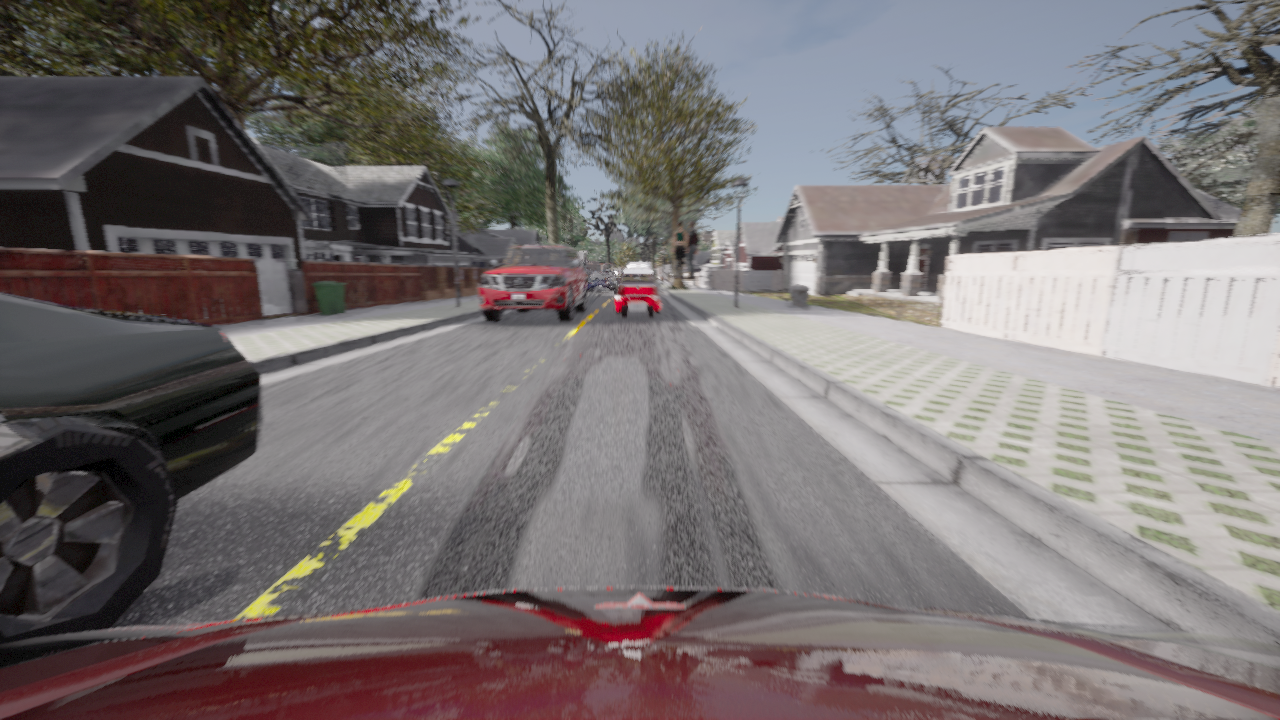cyclist: (0, 588, 1279, 719), (477, 245, 586, 322), (613, 269, 661, 318), (615, 268, 645, 296), (586, 271, 615, 291), (603, 269, 618, 279), (628, 263, 648, 268)
pedestrian: (671, 221, 686, 278), (685, 221, 699, 279)
